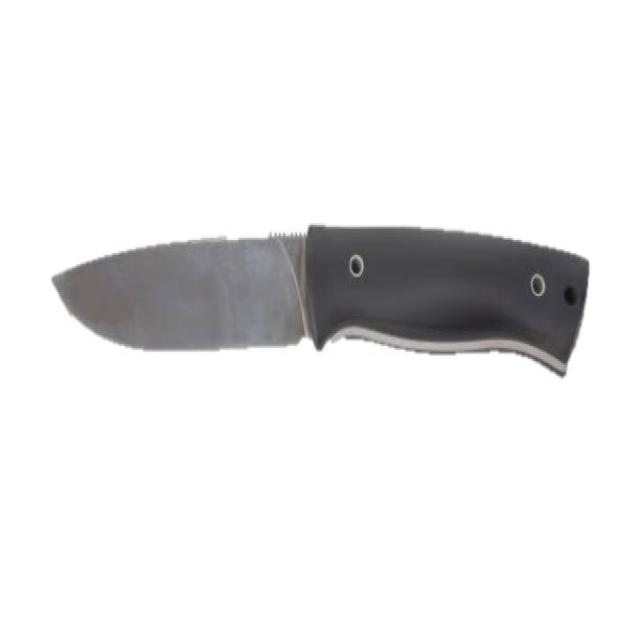knife: (46, 210, 595, 394)
